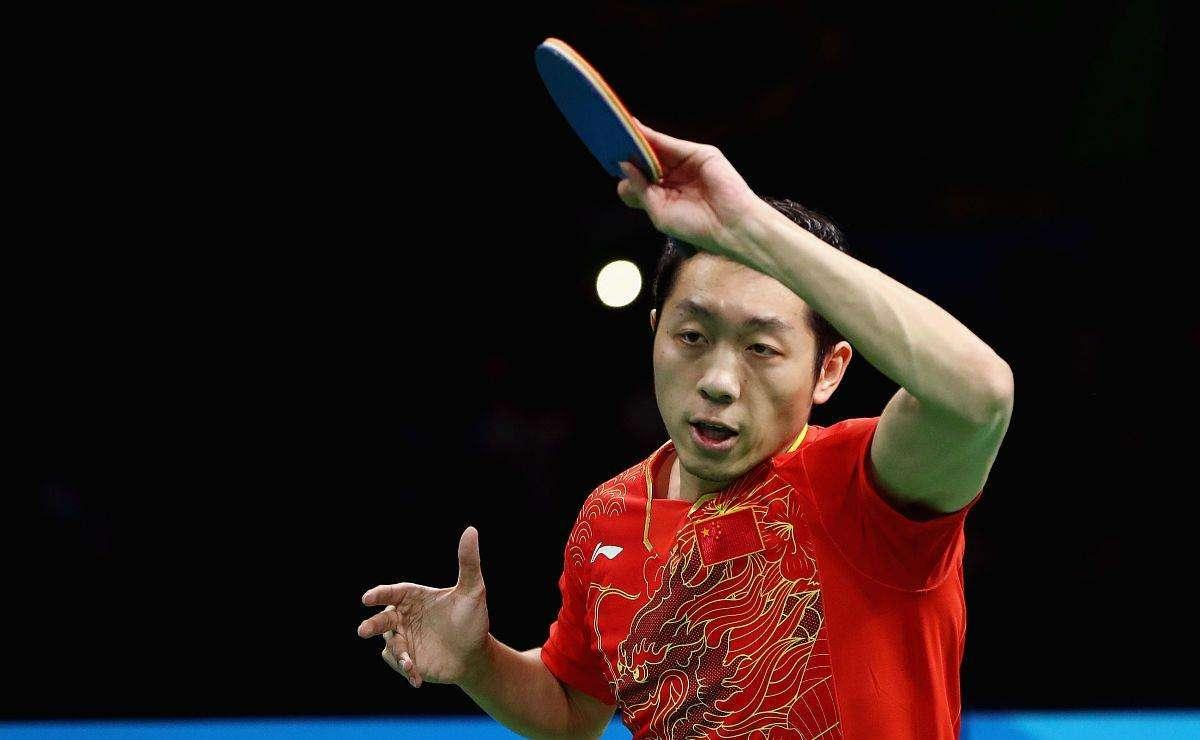ball: (588, 252, 647, 313)
